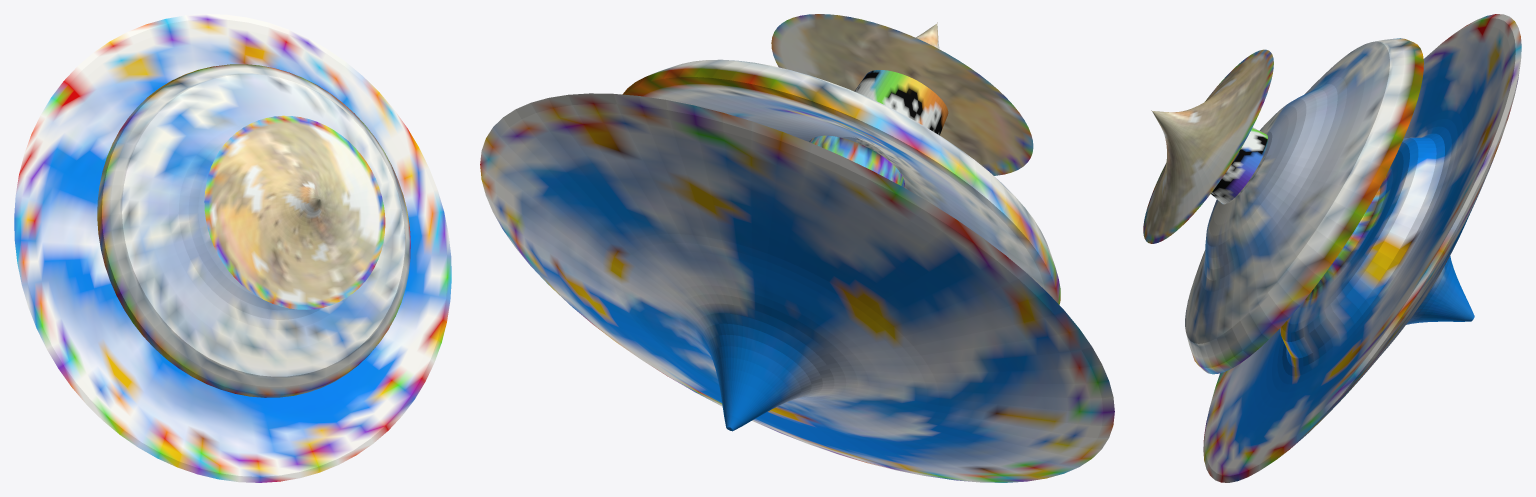
Rendered from april28outdoorpagoda12.glb.
3 renders of one model, left to right at view 1: azimuth 30°, elevation 25°; view 2: azimuth 150°, elevation 25°; view 3: azimuth 270°, elevation 25°, orthographic. The views are drawn at different scales.
Parts seen in each view (by area): view 1: Lathe 4, Lathe 3, Lathe; view 2: Lathe 4, Lathe 3, Lathe, Lathe.001; view 3: Lathe 4, Lathe 3, Lathe, Lathe.001.
Boxes of the visible parts, <box> form: Lathe 4: <box>14,14,451,482</box>; Lathe 3: <box>97,64,410,397</box>; Lathe: <box>204,115,385,309</box>; Lathe 4: <box>480,93,1114,482</box>; Lathe 3: <box>622,59,1060,304</box>; Lathe: <box>771,14,1033,175</box>; Lathe.001: <box>854,70,948,135</box>; Lathe 4: <box>1203,14,1521,482</box>; Lathe 3: <box>1185,38,1423,374</box>; Lathe: <box>1143,49,1273,243</box>; Lathe.001: <box>1211,127,1267,204</box>.
Bounding box in the file's own units: 3.74 × 3.05 × 2.58.
